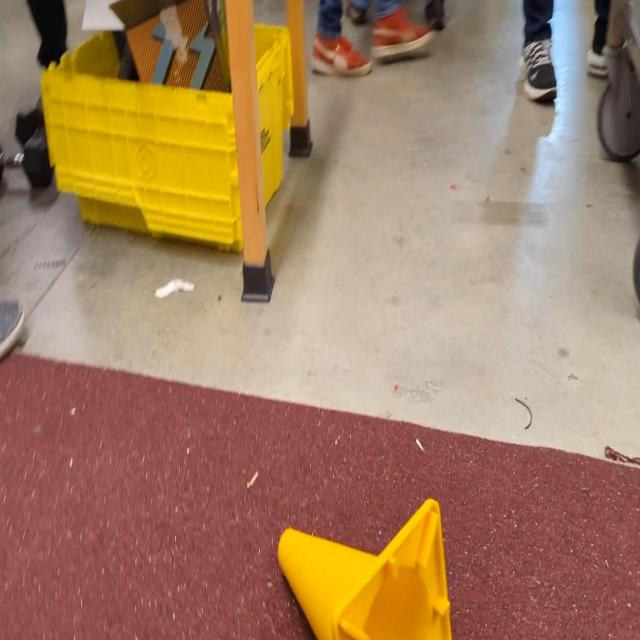frc_cone: (276, 494, 453, 640)
